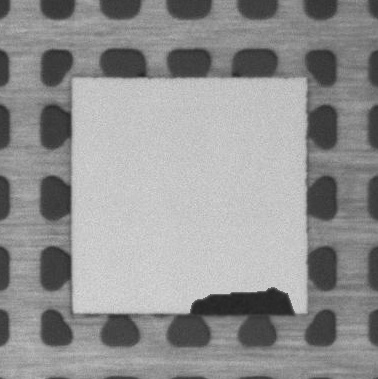DIE_BROKEN: (186, 285, 298, 319)
